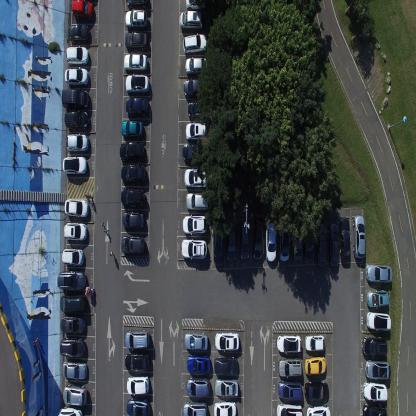car: (352, 214, 366, 260), (57, 271, 86, 292), (337, 218, 350, 264), (182, 167, 209, 189), (181, 238, 208, 260), (62, 89, 90, 110), (277, 214, 289, 262), (185, 375, 210, 398), (264, 217, 276, 263), (179, 9, 203, 32), (364, 360, 390, 381), (251, 215, 263, 260), (365, 264, 392, 284), (181, 214, 208, 234), (183, 32, 206, 55), (326, 223, 338, 267), (225, 218, 237, 262), (120, 186, 144, 208), (120, 234, 144, 256), (63, 384, 87, 406), (120, 140, 144, 162), (125, 73, 149, 95), (124, 30, 148, 52), (65, 44, 89, 66), (365, 312, 390, 333), (213, 356, 238, 377), (62, 361, 87, 382), (184, 78, 209, 99), (60, 294, 86, 314), (59, 316, 85, 336), (124, 330, 150, 350), (124, 353, 150, 373), (62, 154, 88, 174), (290, 218, 302, 260), (121, 164, 145, 185), (278, 356, 303, 376), (277, 333, 302, 353), (362, 383, 387, 403), (185, 191, 210, 211), (181, 142, 206, 162), (63, 198, 88, 218), (64, 67, 89, 87), (59, 339, 85, 358), (64, 221, 87, 242), (120, 119, 143, 140), (125, 96, 148, 117), (67, 23, 90, 44), (362, 338, 386, 358), (186, 354, 210, 374), (123, 52, 147, 72), (65, 132, 89, 152), (214, 332, 239, 351), (126, 376, 149, 396), (125, 10, 148, 30), (72, 0, 95, 20), (279, 380, 303, 399), (214, 378, 238, 397), (184, 57, 208, 76), (125, 398, 150, 416), (64, 111, 89, 129), (315, 224, 325, 268), (122, 210, 144, 230), (366, 290, 389, 309), (61, 247, 84, 266), (214, 220, 223, 268), (184, 332, 208, 350), (186, 100, 210, 118), (302, 220, 312, 263), (305, 356, 327, 375), (186, 122, 208, 141), (305, 383, 329, 400), (239, 220, 249, 260), (304, 334, 326, 352), (183, 402, 207, 416), (362, 403, 386, 415), (213, 403, 237, 415), (277, 404, 303, 415), (58, 406, 83, 416), (307, 406, 331, 416), (185, 0, 210, 9), (126, 0, 148, 8)
